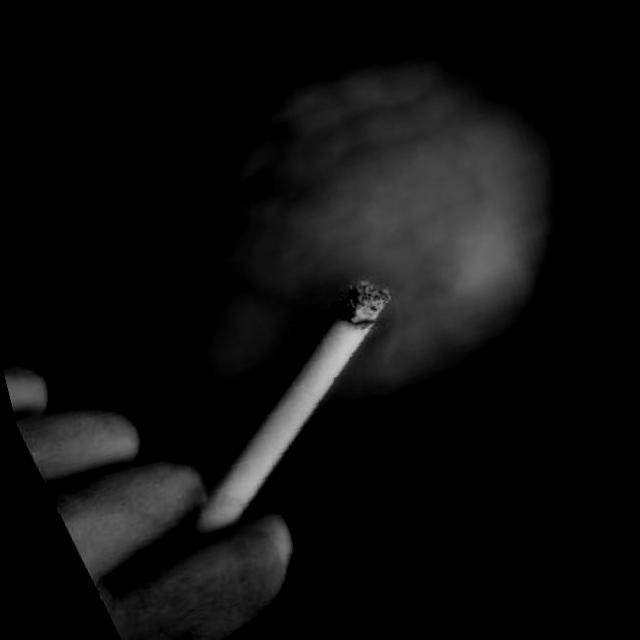smoke: (99, 258, 478, 568)
